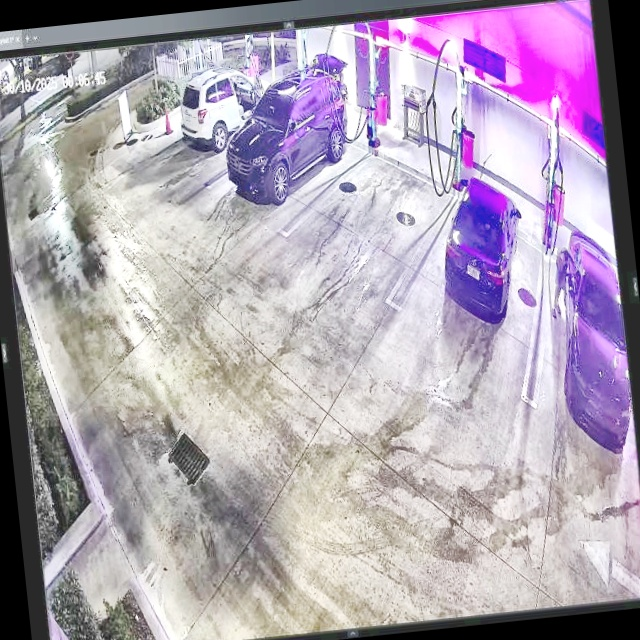Car: (213, 53, 357, 209), (436, 176, 530, 324), (174, 61, 279, 157)
